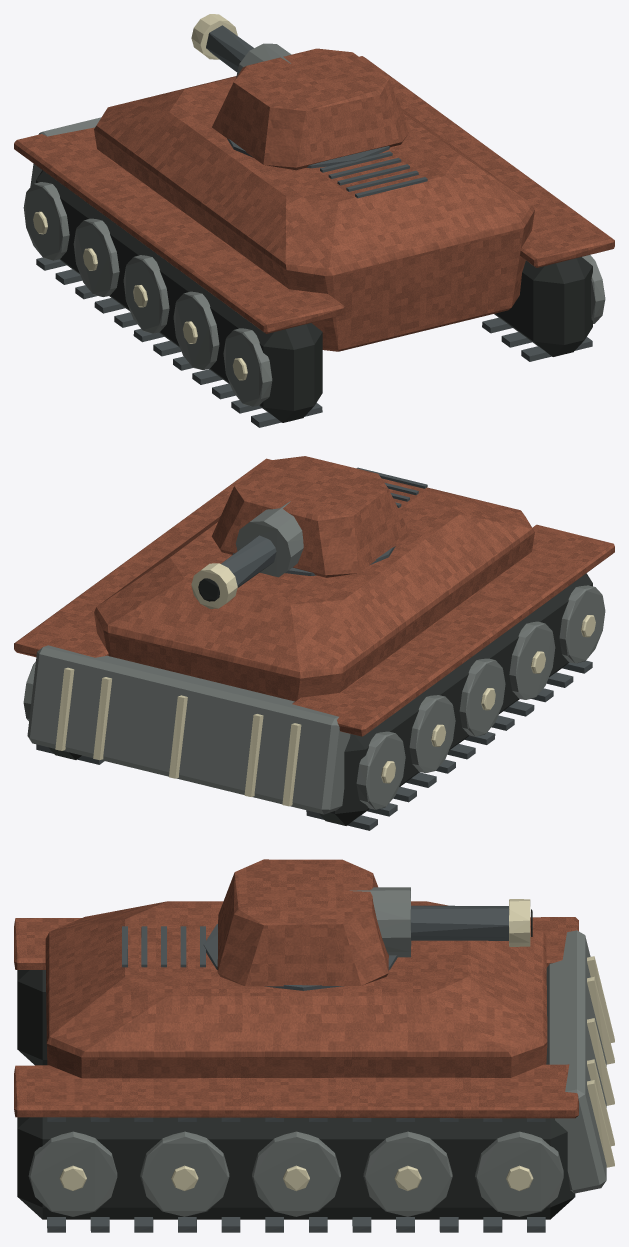
3 views of the same model, one above another, from view 1: azimuth 30°, elevation 25°; view 2: azimuth 150°, elevation 25°; view 3: azimuth 270°, elevation 25° (orthographic). The views are drawn at different scales.
Visible parts, largest first — view 1: ST2-E02_Mesh, Track_L_Mesh, TurretYaw_Mesh, Track_R_Mesh, BarrelRecoil_Mesh; view 2: ST2-E02_Mesh, Track_L_Mesh, TurretYaw_Mesh, BarrelRecoil_Mesh, Track_R_Mesh; view 3: ST2-E02_Mesh, Track_R_Mesh, TurretYaw_Mesh, BarrelRecoil_Mesh, Track_L_Mesh.
Part boxes in pixels (<box>): ST2-E02_Mesh: <box>14,56,614,351</box>; Track_L_Mesh: <box>23,166,322,427</box>; TurretYaw_Mesh: <box>212,48,410,170</box>; Track_R_Mesh: <box>482,255,605,361</box>; BarrelRecoil_Mesh: <box>191,14,291,77</box>; ST2-E02_Mesh: <box>14,458,614,814</box>; Track_L_Mesh: <box>306,573,605,830</box>; TurretYaw_Mesh: <box>211,456,410,577</box>; BarrelRecoil_Mesh: <box>191,501,303,608</box>; Track_R_Mesh: <box>23,661,104,764</box>; ST2-E02_Mesh: <box>14,901,614,1193</box>; Track_R_Mesh: <box>17,1117,575,1232</box>; TurretYaw_Mesh: <box>203,859,397,990</box>; BarrelRecoil_Mesh: <box>350,887,532,957</box>; Track_L_Mesh: <box>17,970,47,1065</box>.
Bounding box in the file's own units: 3.26 × 1.99 × 4.31.
